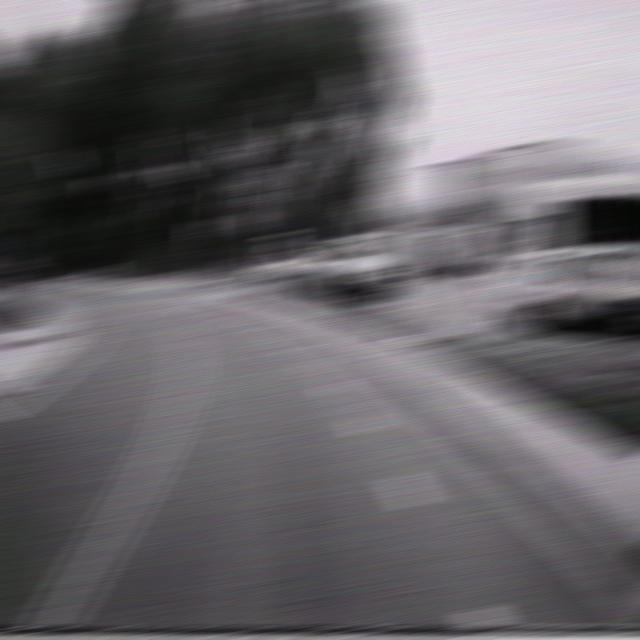stop_sign: (236, 207, 265, 231), (190, 220, 213, 240)
